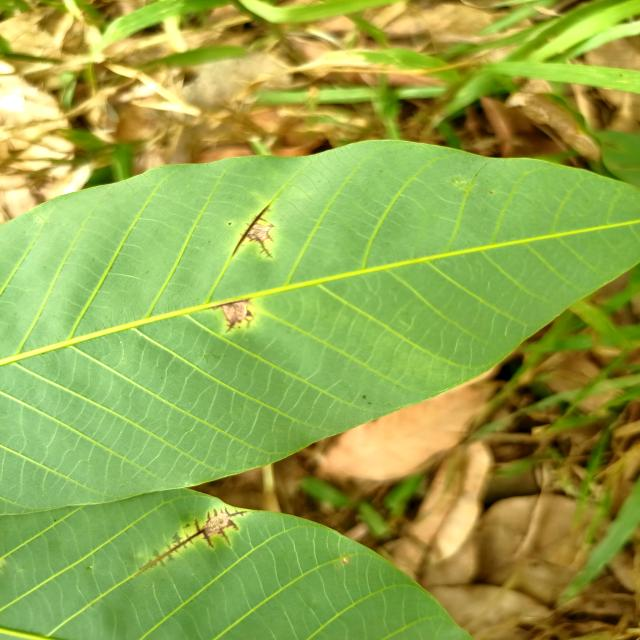Corynespora: (140, 506, 248, 572), (230, 204, 276, 259), (216, 299, 252, 332)
